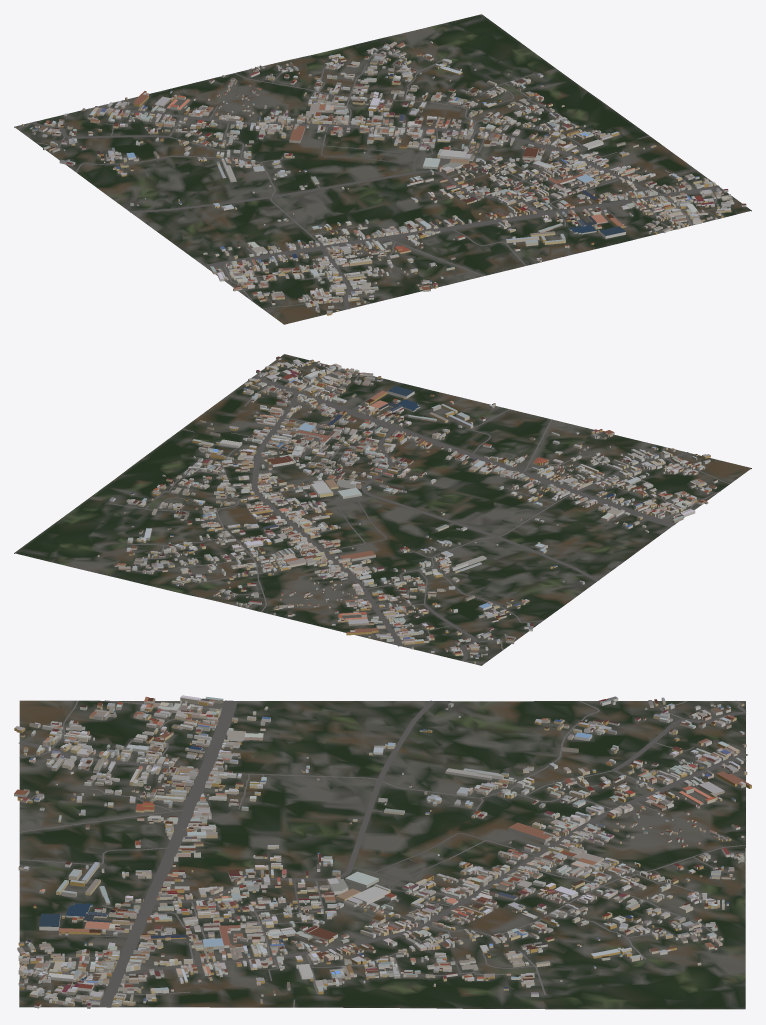
The picture shows the model from 3 angles, top to bottom: view 1: azimuth 30°, elevation 25°; view 2: azimuth 150°, elevation 25°; view 3: azimuth 270°, elevation 25°; orthographic projection. The views are drawn at different scales.
Visible parts, largest first — view 1: ground, buildings, roads; view 2: ground, buildings, roads; view 3: ground, buildings, roads.
Boxes of the visible parts, x1,y1,x2,y2 form: ground: (14,14,751,324); buildings: (21,41,746,315); roads: (17,48,721,309); ground: (14,354,751,665); buildings: (97,356,717,663); roads: (110,368,730,663); ground: (19,700,745,1009); buildings: (14,695,751,1008); roads: (18,700,747,1007).
Size of the model in its own units: 1416 by 18.14 by 1423.
